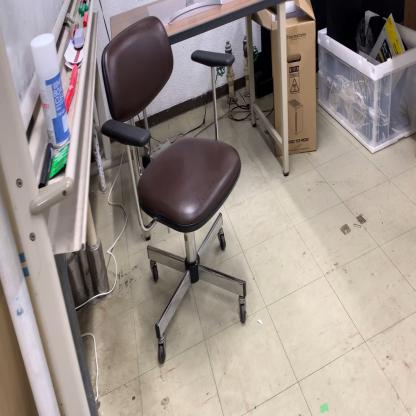chair: (100, 14, 247, 366)
